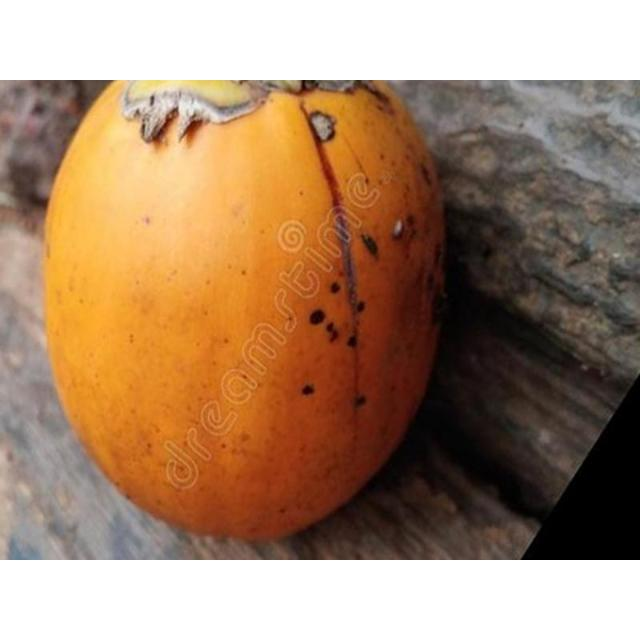good: (42, 80, 450, 546)
